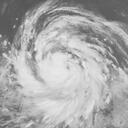cyclone: (8, 3, 123, 125)
